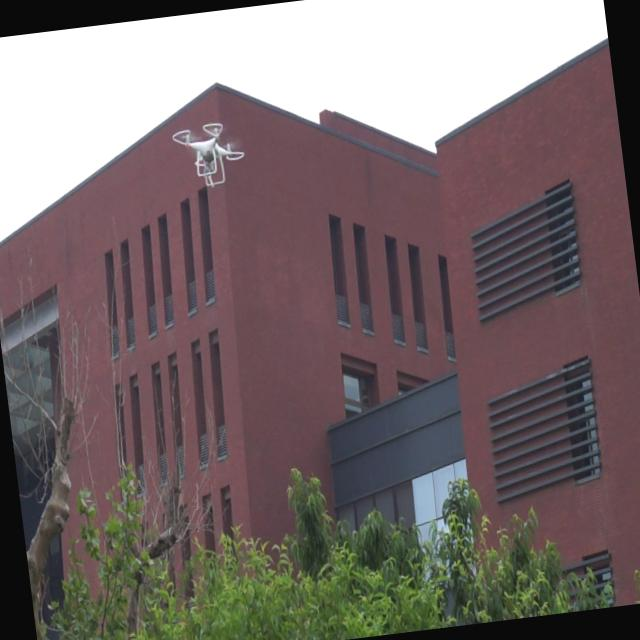drone: (170, 120, 250, 196)
